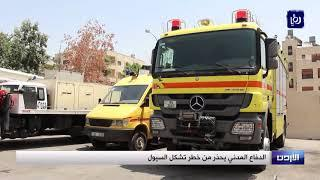firetruck_off: (151, 10, 290, 153)
